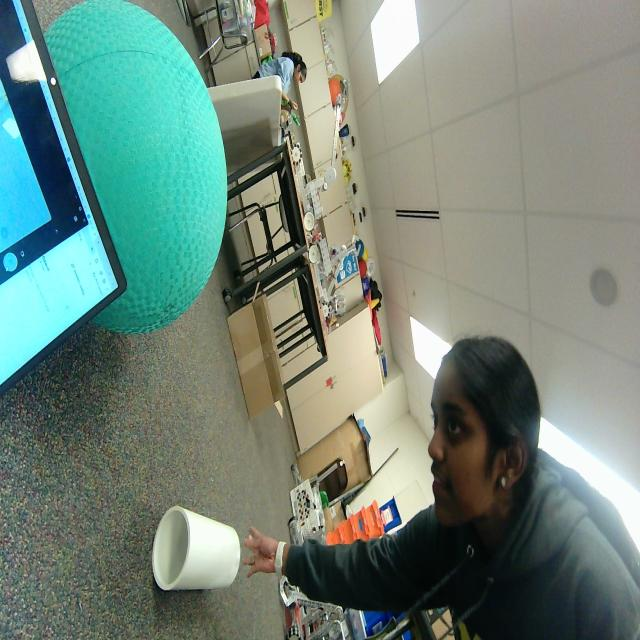algae: (131, 0, 229, 332)
coral: (149, 498, 243, 592)
